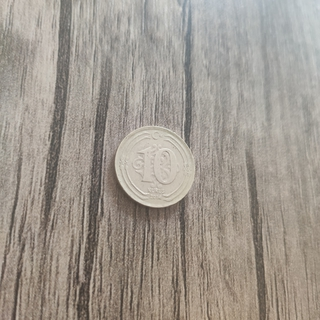10KURUS: (112, 123, 196, 209)
